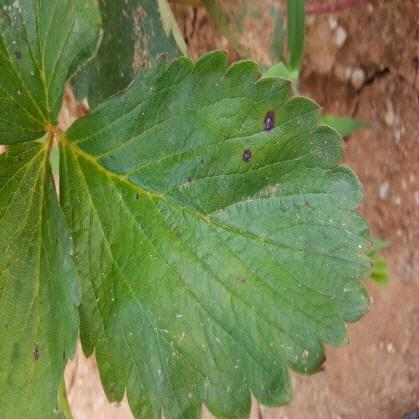Leaf Spot: (58, 48, 374, 418), (0, 141, 82, 418), (0, 0, 103, 146)
